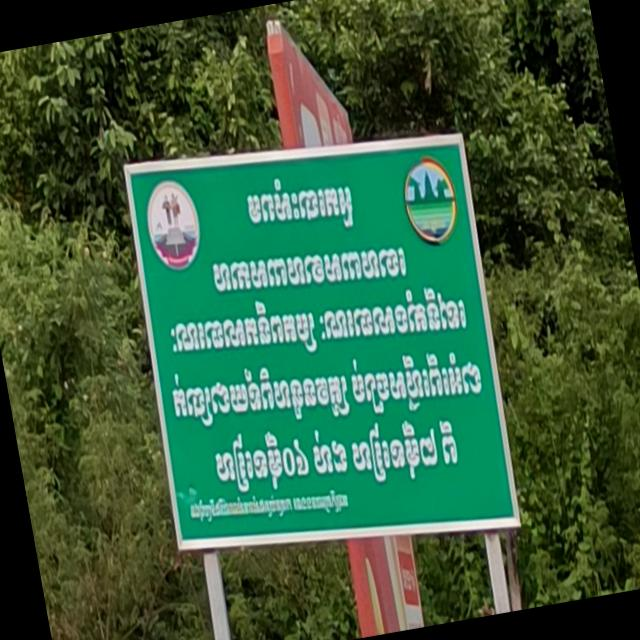1: (168, 342, 484, 430), (162, 279, 470, 359), (205, 412, 468, 497)
Yolov11kh: (207, 239, 409, 297), (237, 169, 359, 238)
